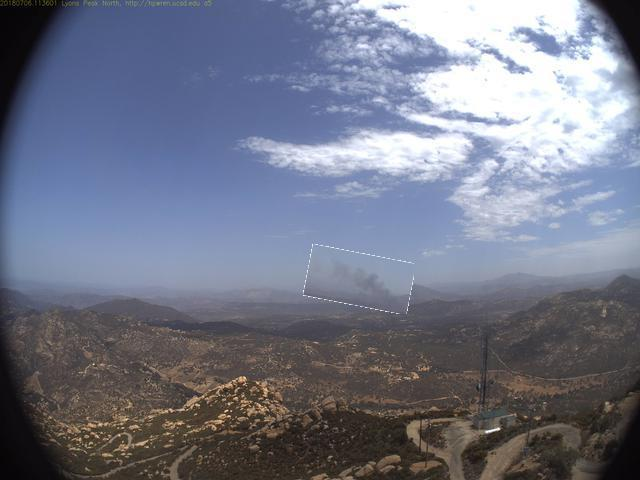smoke: (306, 250, 415, 312)
